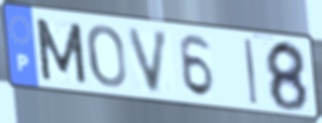6: (178, 33, 217, 100)
8: (263, 38, 312, 114)
I: (241, 37, 259, 108)
M: (32, 15, 90, 87)
O: (84, 22, 128, 90)
V: (125, 25, 172, 96)
